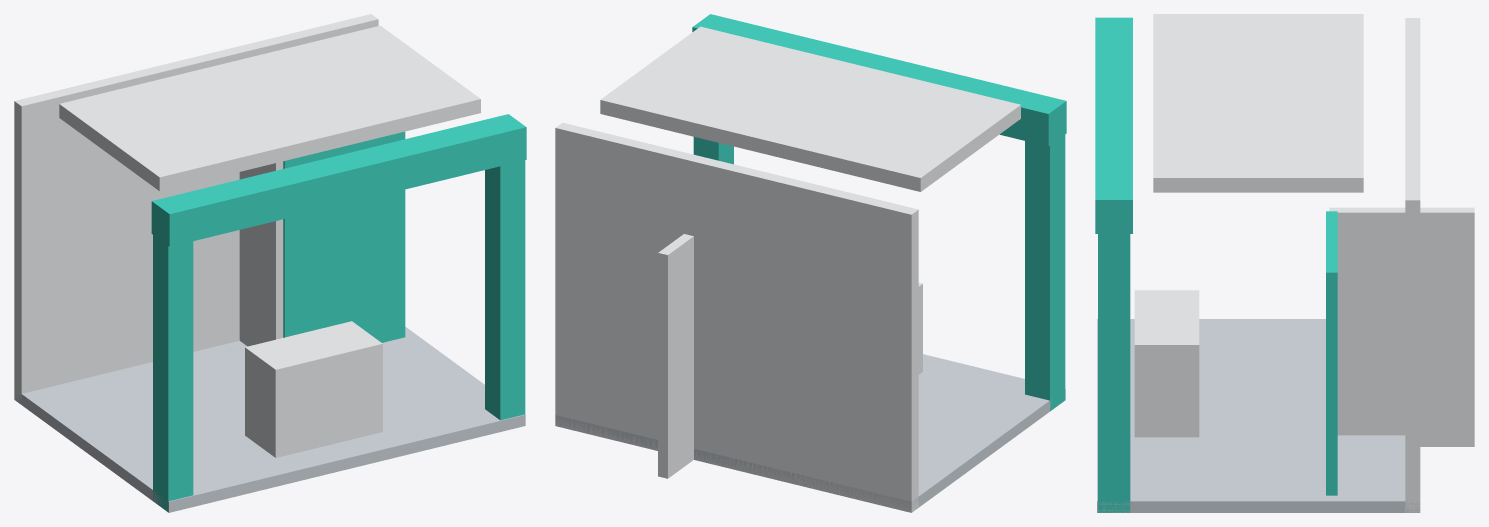
3 views of the same model, side by side, from view 1: azimuth 30°, elevation 25°; view 2: azimuth 150°, elevation 25°; view 3: azimuth 270°, elevation 25° (orthographic). The views are drawn at different scales.
Parts seen in each view (by area): view 1: Exhibition Booth Concept; view 2: Exhibition Booth Concept; view 3: Exhibition Booth Concept.
Boxes of the visible parts, x1,y1,x2,y2 form: Exhibition Booth Concept: (14, 14, 526, 512); Exhibition Booth Concept: (555, 14, 1066, 512); Exhibition Booth Concept: (1095, 14, 1474, 512).
Bounding box in the file's own units: 4 × 3.34 × 3.52.
